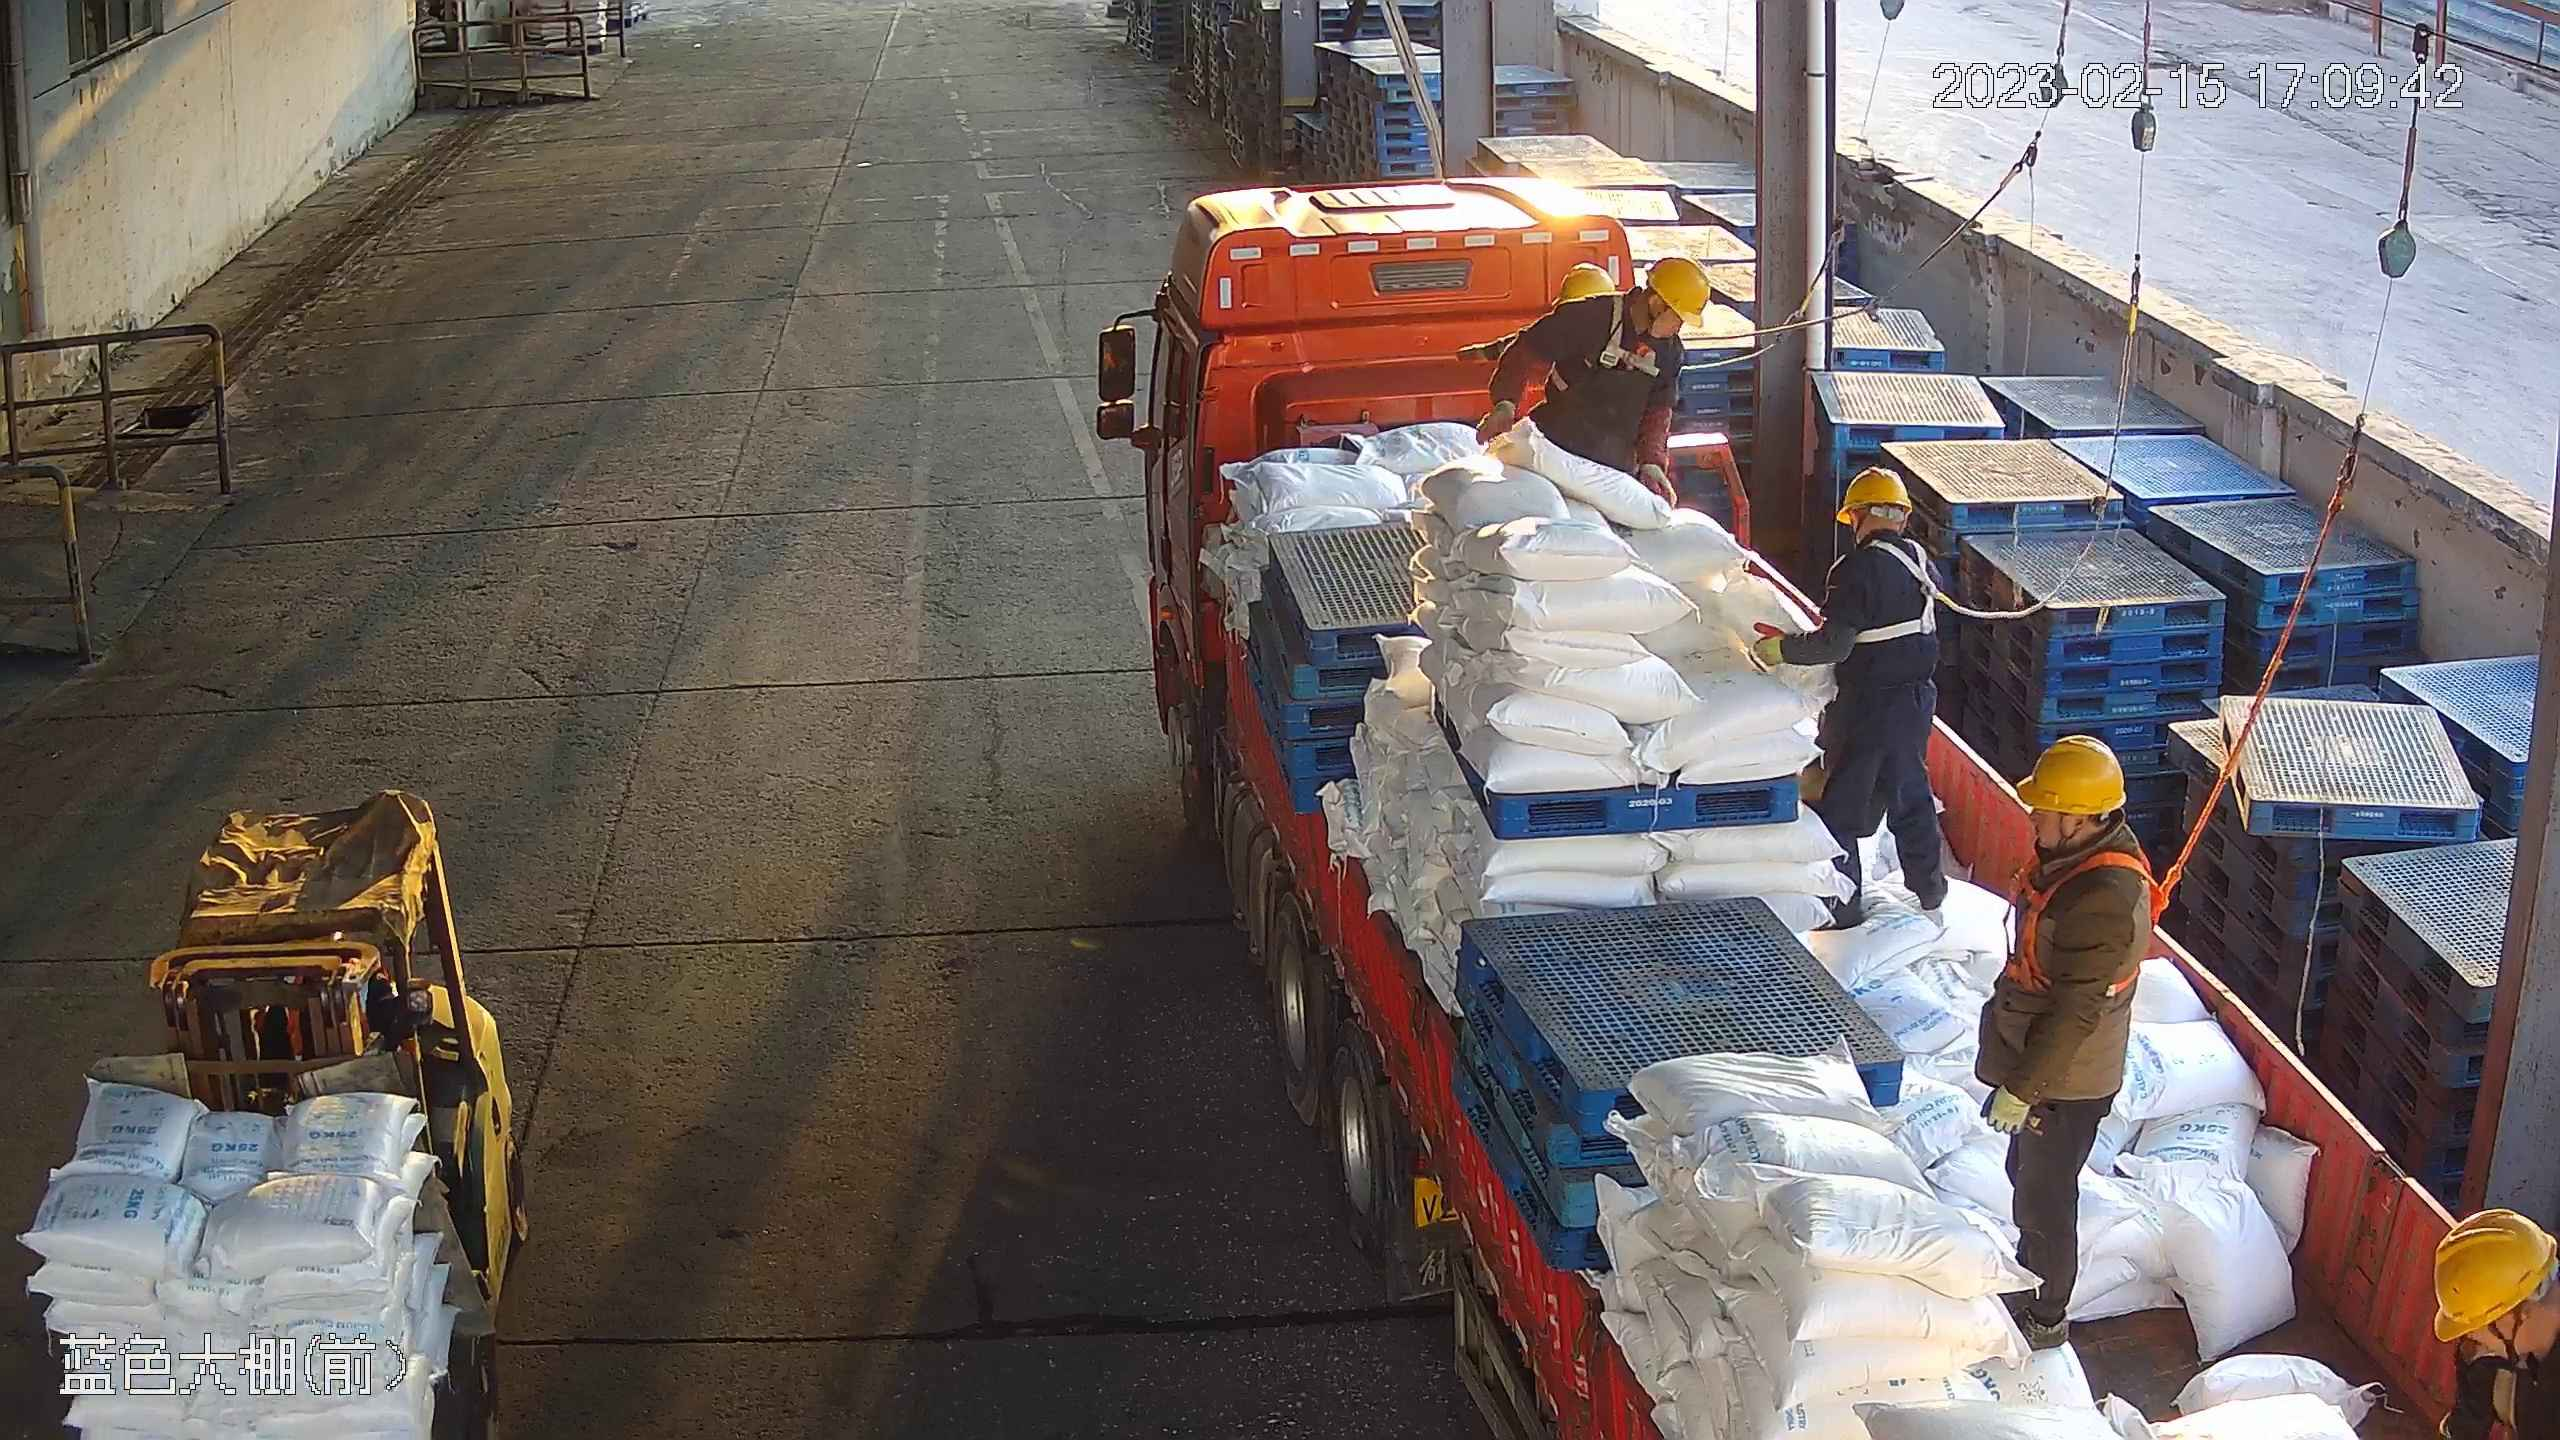belt: (2004, 838, 2176, 1004), (1839, 533, 1976, 648), (1592, 294, 1728, 393)
head: (2013, 732, 2158, 914), (1546, 255, 1714, 364), (1817, 462, 1949, 590)
helmet: (2430, 1206, 2560, 1345), (2013, 733, 2128, 816), (1833, 465, 1913, 528), (1644, 256, 1711, 327), (1551, 260, 1621, 303)
people: (1972, 732, 2156, 1353), (1748, 464, 1951, 933), (1467, 255, 1695, 512)
truck: (1138, 173, 2560, 1440)
